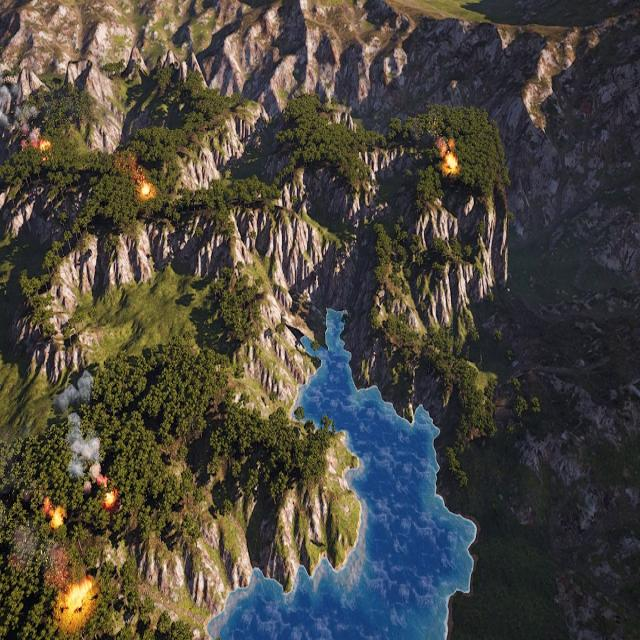fire: (64, 577, 95, 613), (440, 142, 461, 176), (45, 502, 65, 534), (101, 480, 116, 514), (36, 138, 51, 157), (144, 184, 157, 202)
smoke: (54, 367, 108, 493), (0, 81, 40, 145)
